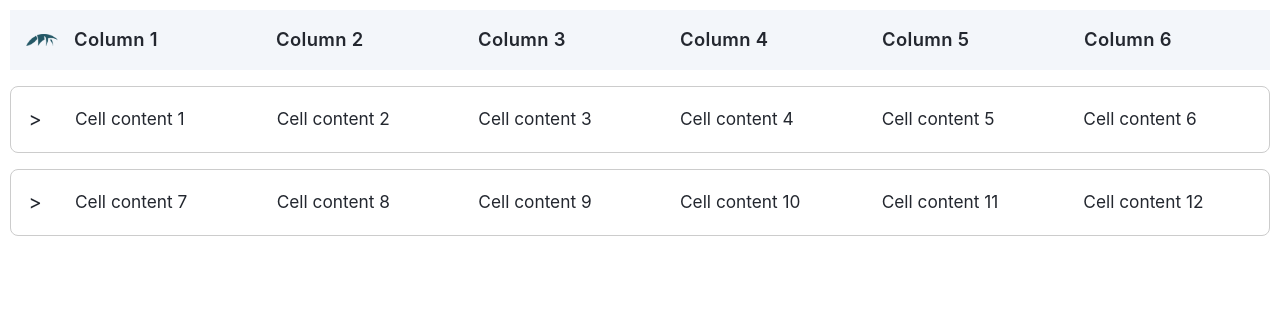
Test case: Expandable Table E2E Tests › should maintain proper ARIA attributes
# Test dynamic ARIA updates when expanding
Click the button with test id "expand-button-0": (35, 119) [28,104,41,134]
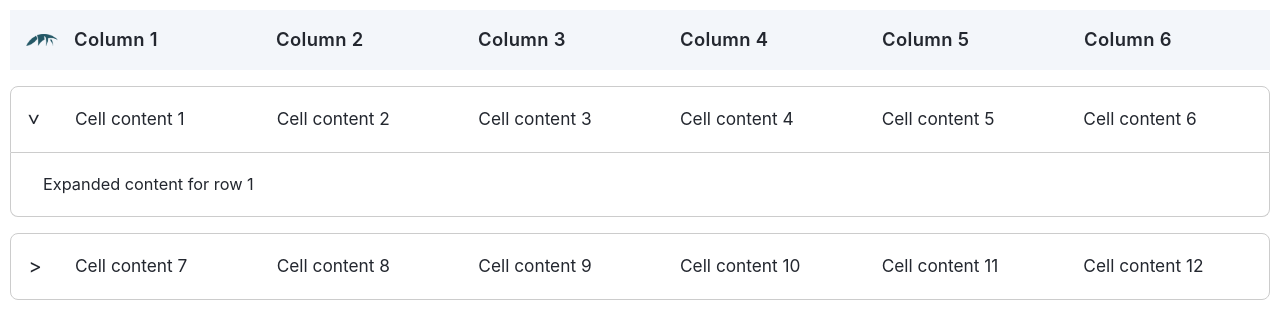
Expected: the row with test id "table-row-0" is expanded, [10,86,1270,153]
